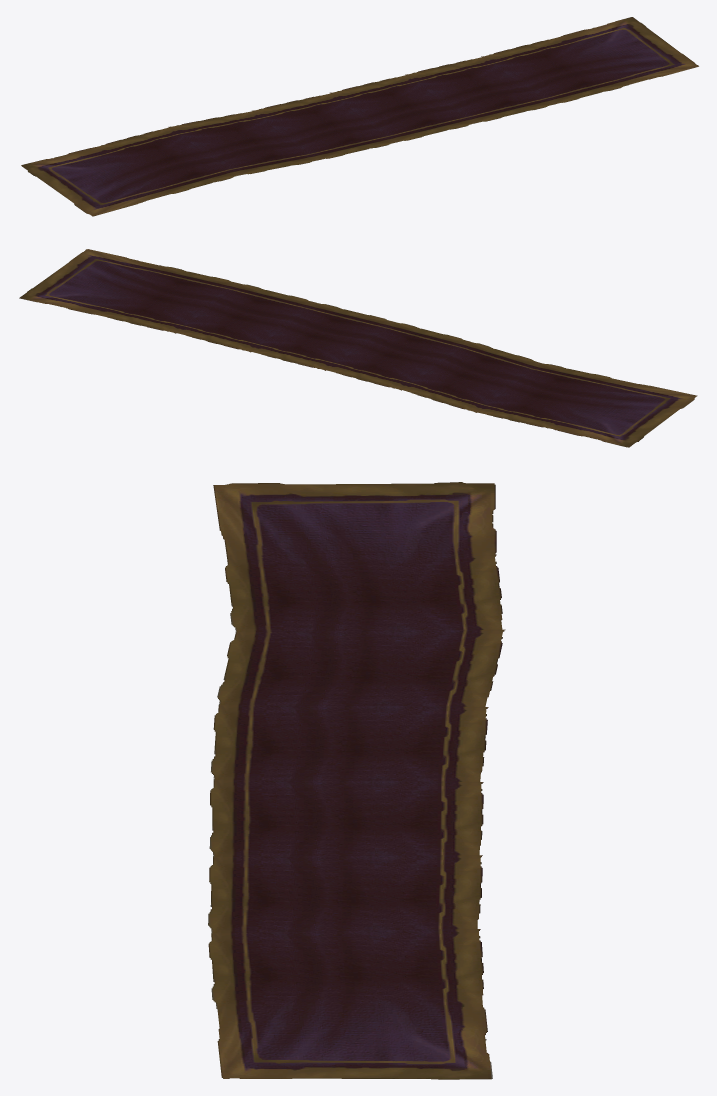
Rendered from carpet.fbx.
3 views of the same model, one above another, from view 1: azimuth 30°, elevation 25°; view 2: azimuth 150°, elevation 25°; view 3: azimuth 270°, elevation 25° (orthographic). The views are drawn at different scales.
Parts seen in each view (by area): view 1: obj0.024; view 2: obj0.024; view 3: obj0.024.
Part boxes in pixels (left/top/right/bottom): obj0.024: left=21, top=17, right=698, bottom=216; obj0.024: left=19, top=249, right=697, bottom=447; obj0.024: left=208, top=482, right=505, bottom=1079.
Bounding box in the file's own units: 14.97 × 5.3e-07 × 3.26.
